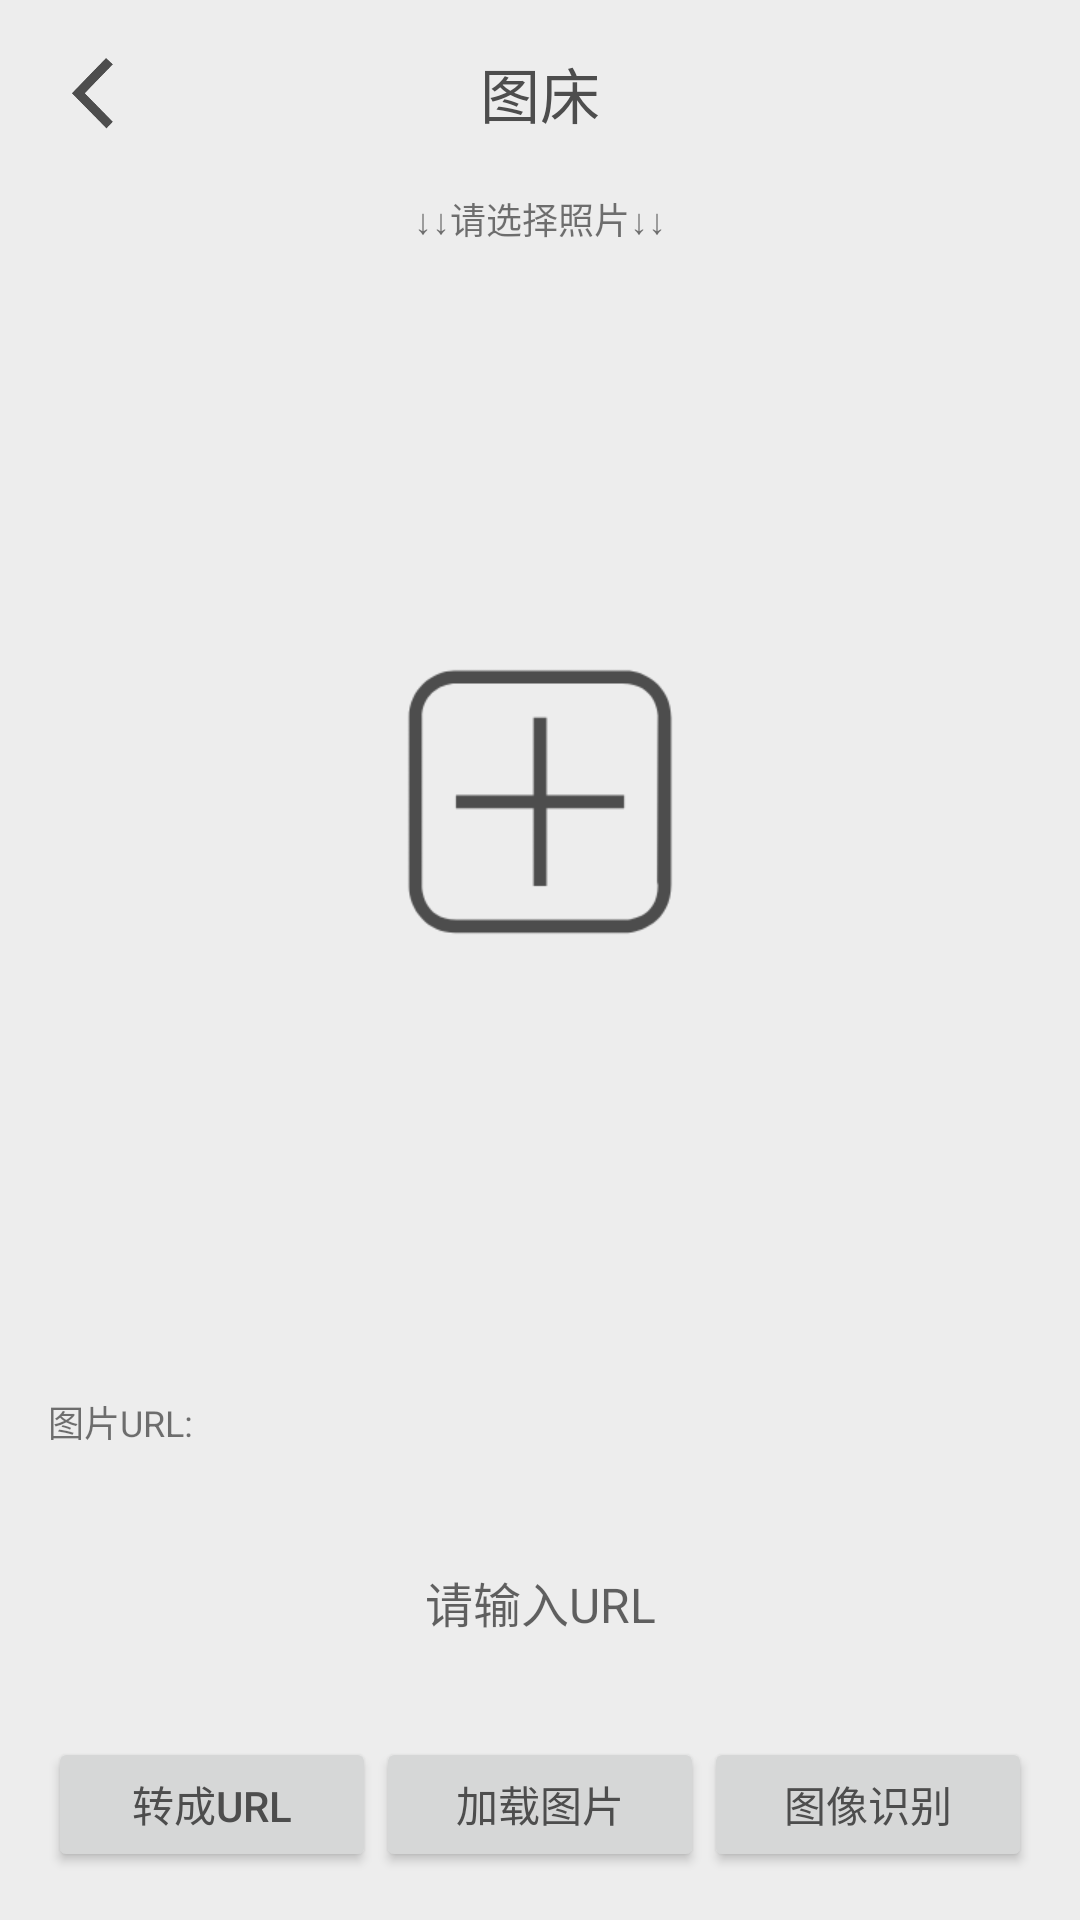

Where to tap for icons on this 1080w x 1920h app screen, as point (x, y):
back: point (92, 93)
select picture: point (540, 802)
